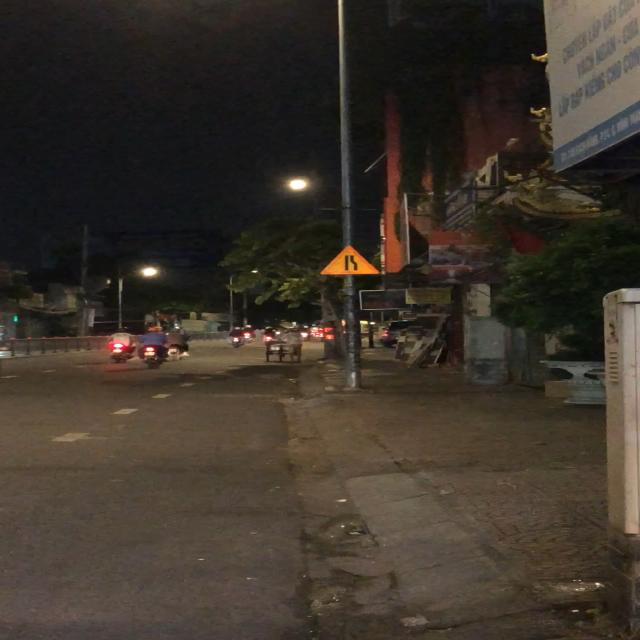Bien bao duong bi thu hep: (319, 244, 383, 277)
